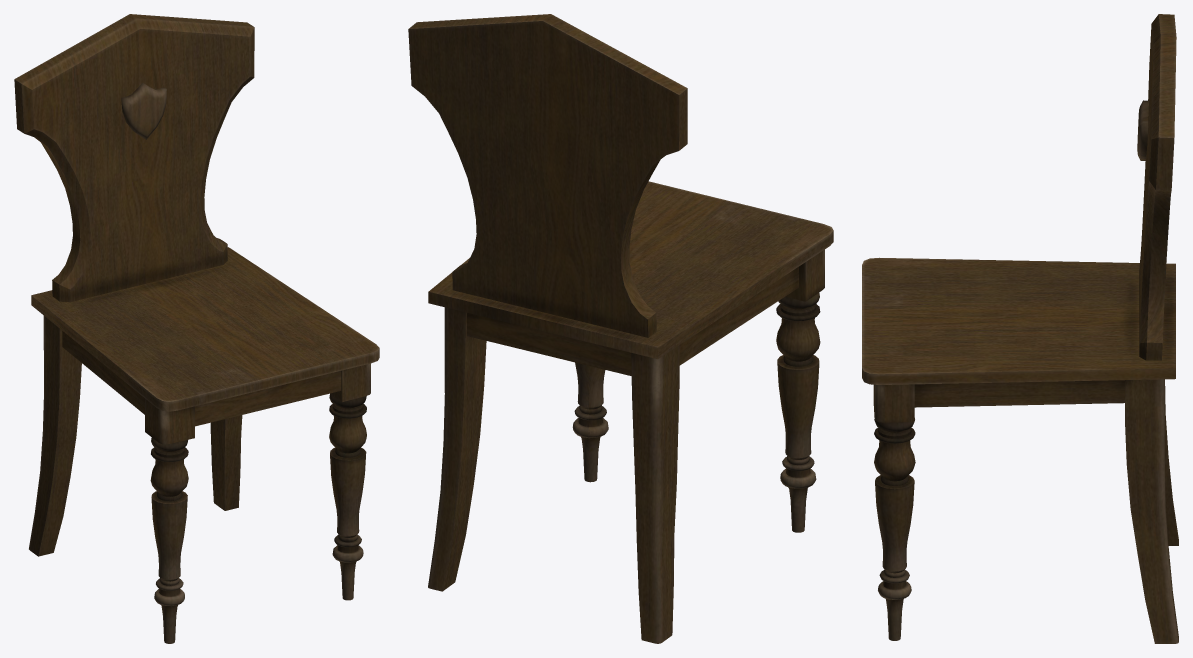
The model's file is chair.FBX.
3 renders of one model, left to right at view 1: azimuth 30°, elevation 25°; view 2: azimuth 150°, elevation 25°; view 3: azimuth 270°, elevation 25°, orthographic. The views are drawn at different scales.
Visible parts, largest first — view 1: chair; view 2: chair; view 3: chair.
Part boxes in pixels (x1,y1,x2,y2): chair: (14,14,379,643); chair: (408,14,833,643); chair: (862,14,1178,643).
Bounding box in the file's own units: 0.3071 × 0.6442 × 0.3331.
Materials: 1 (1 with a texture image).
